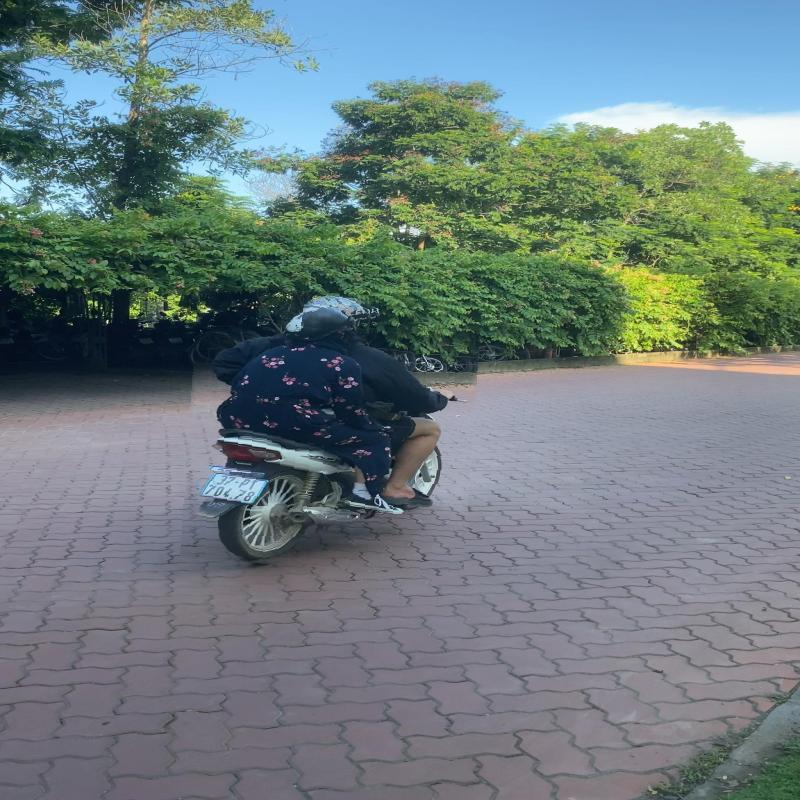helmet: (281, 304, 362, 346), (302, 294, 372, 333)
licenseplate: (198, 470, 270, 506)
motorcyclist: (184, 288, 478, 573)
